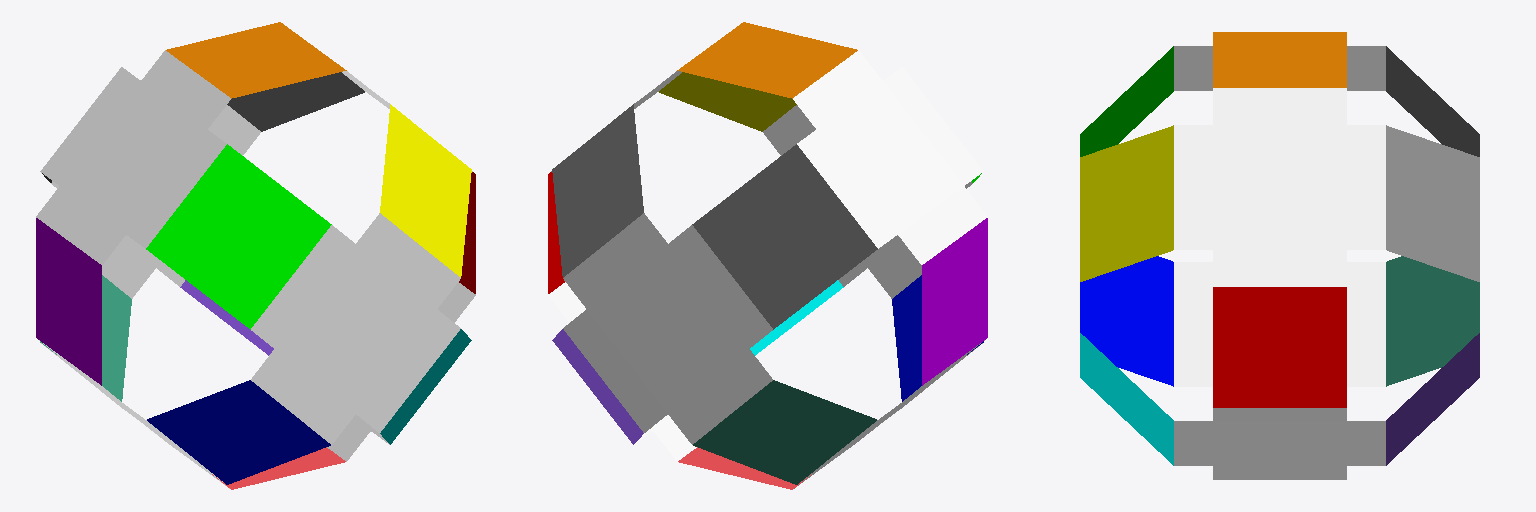
The model's file is datoms_picking.obj.
3 views of the same model, side by side, from view 1: azimuth 30°, elevation 25°; view 2: azimuth 150°, elevation 25°; view 3: azimuth 270°, elevation 25° (orthographic).
Visible parts, largest first — view 1: Datom; view 2: Datom; view 3: Datom.
Boxes of the visible parts, x1,y1,x2,y2 form: Datom: [36, 22, 475, 489]; Datom: [548, 22, 987, 489]; Datom: [1080, 32, 1479, 479].
Size of the model in its own units: 10 by 10 by 9.25.